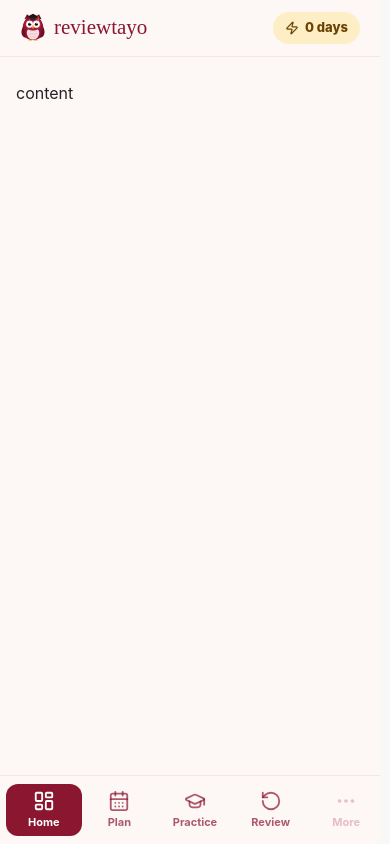
Test case: AppShell › opens the mobile More sheet and Escape closes it
The image size is (390, 844).
Click the button "More" at {"x": 346, "y": 810}, box x1=308 y1=784 x2=384 y2=836
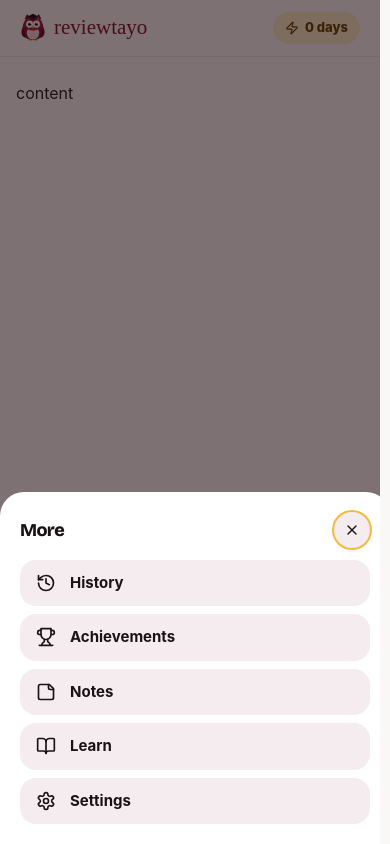
Expected: the dialog named "more menu" is shown, x1=0 y1=492 x2=389 y2=843
Press Escape
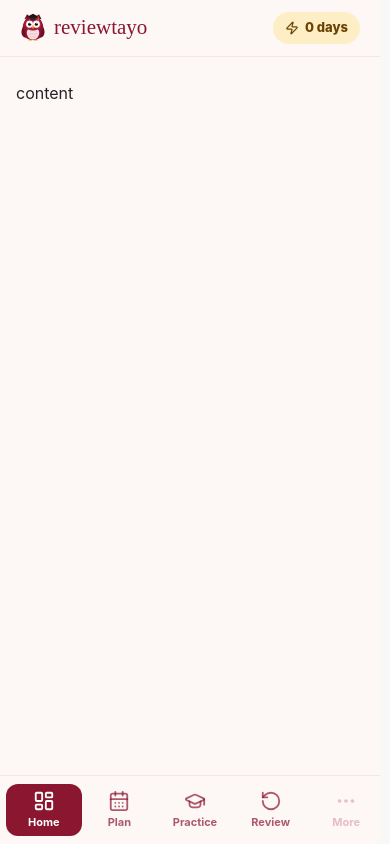
Expected: the button "More" is collapsed, x1=308 y1=784 x2=384 y2=836
